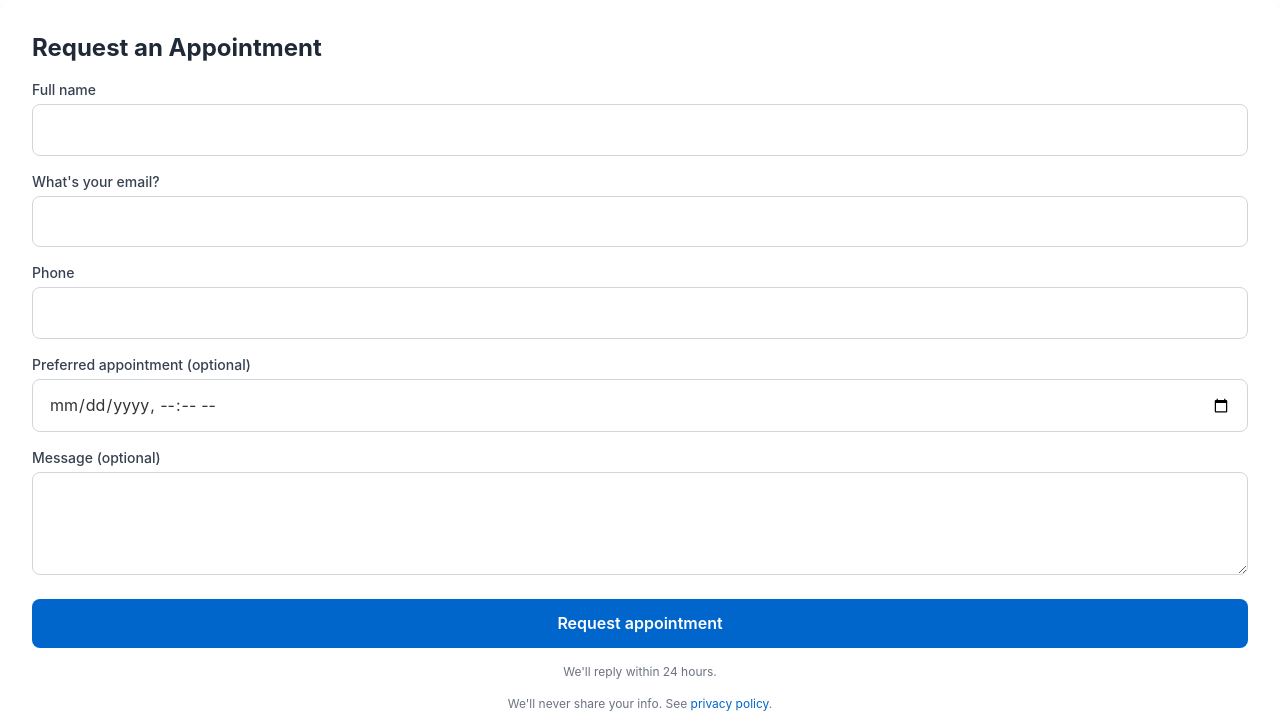
Test: LeadForm › validates phone format
The width and height of the screenshot is (1280, 720).
Type "123" into the field labelled "Phone" at (640, 313), box x1=32 y1=287 x2=1248 y2=339
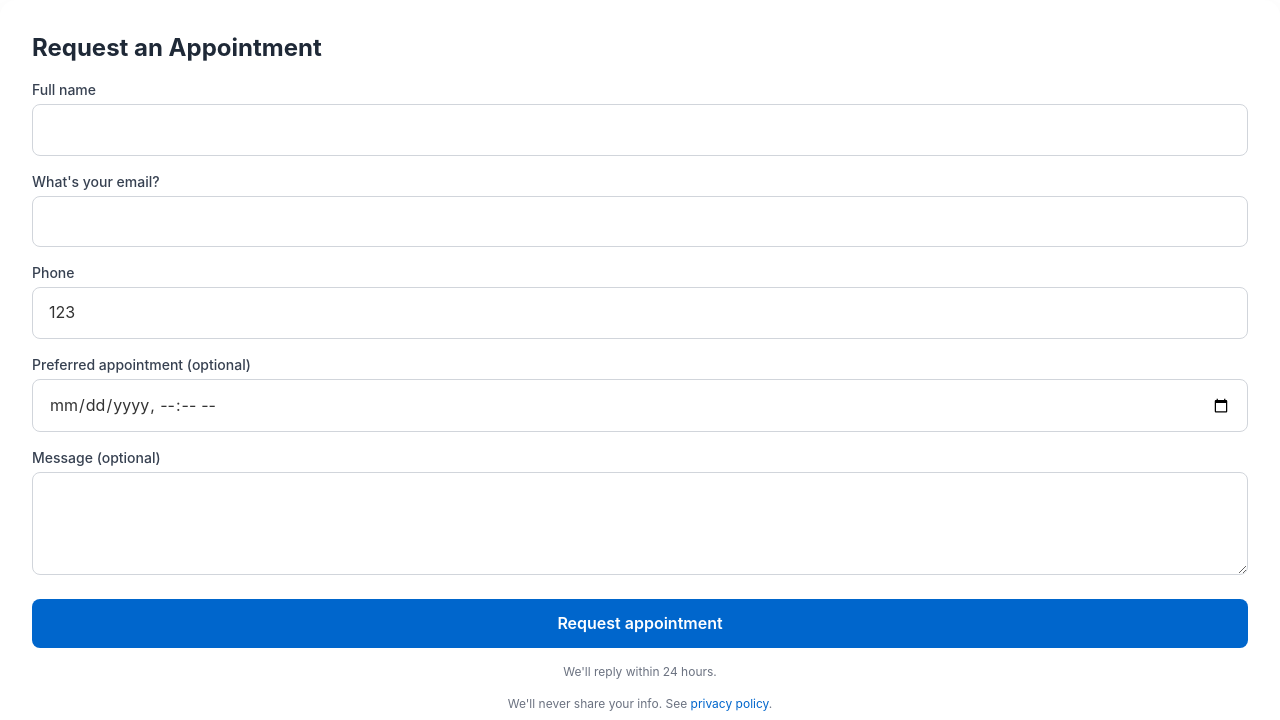
Click the button "Request appointment" at (640, 624), box x1=32 y1=599 x2=1248 y2=648
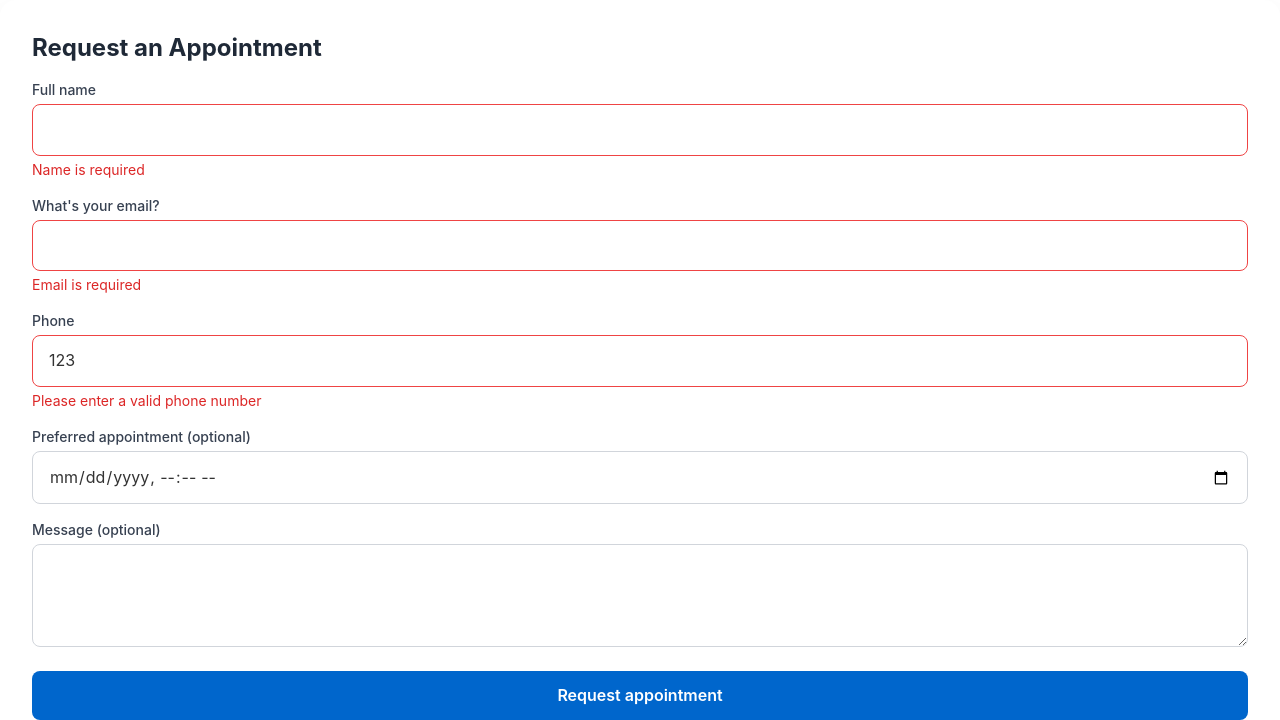
Result: the text "Please enter a valid phone number" is shown at x1=32 y1=392 x2=261 y2=409
